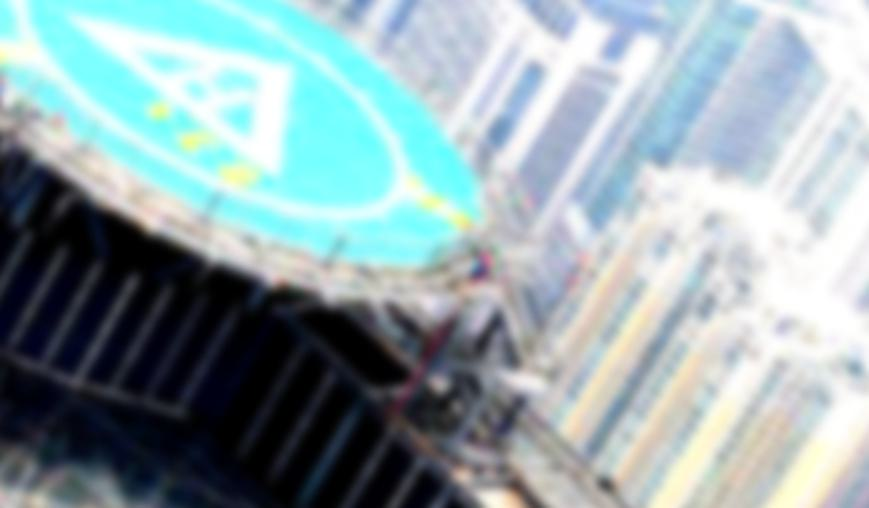Apron: (17, 1, 410, 222)
